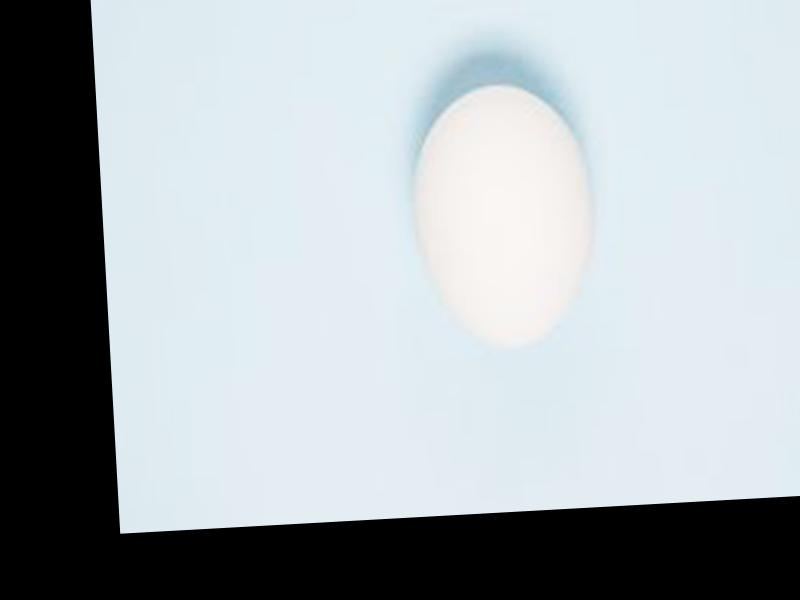Eggs: (409, 80, 601, 355)
